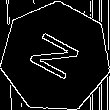N_SE: (24, 28, 87, 87)
